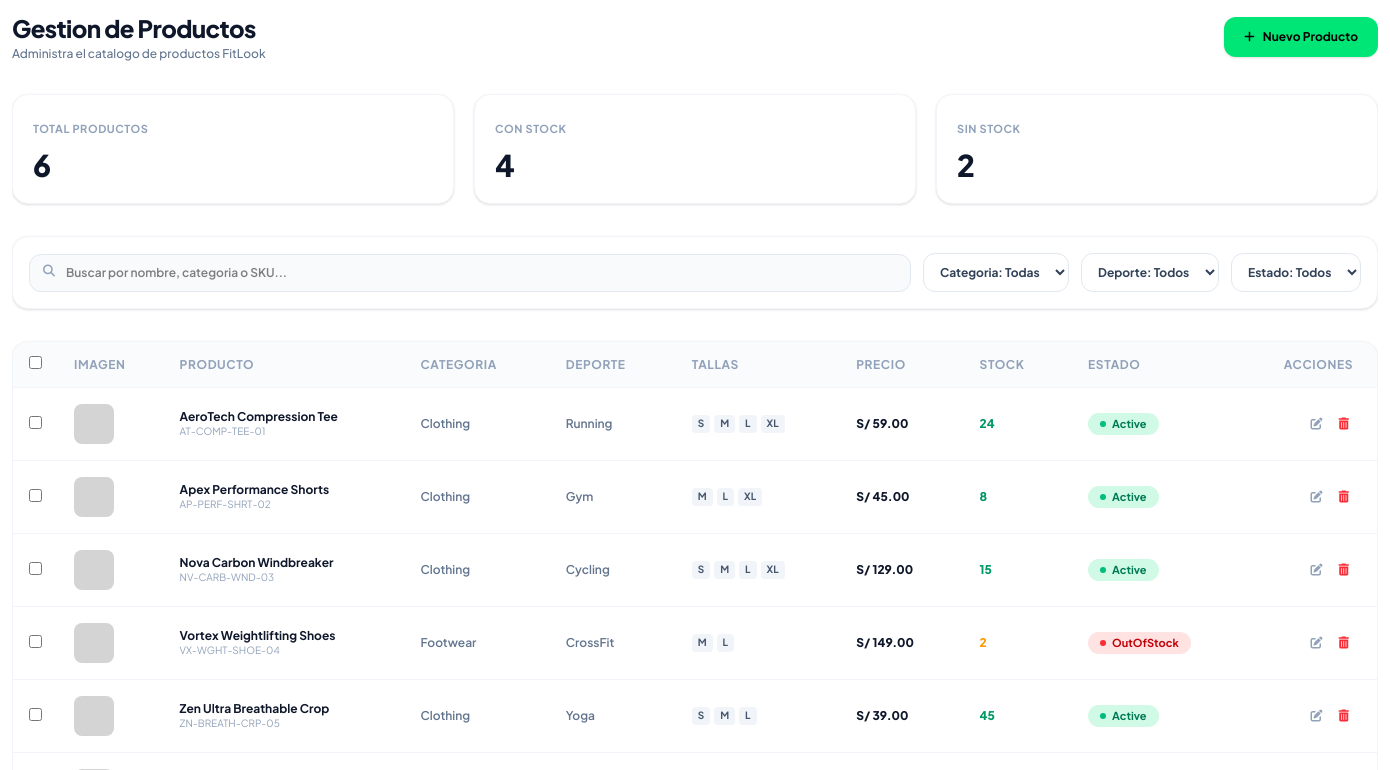
Test: AdminProducts › filtra por nombre
The width and height of the screenshot is (1390, 770).
Type "Nova" into the field with placeholder "Buscar por nombre, categoria o SKU..." at point(470, 272), box [29,254,911,292]
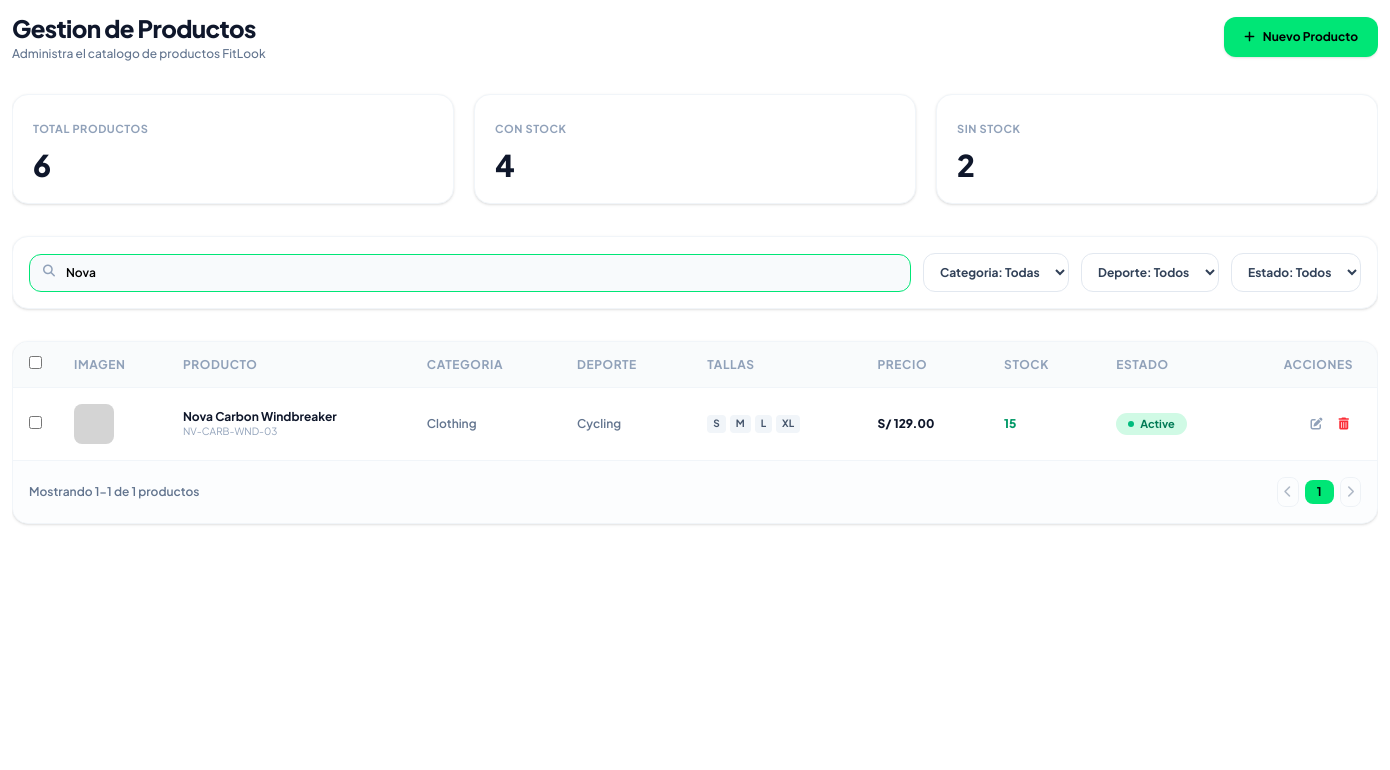
Expected: the text "Nova Carbon Windbreaker" is shown, [183,409,337,424]
Expected: the text "AeroTech Compression Tee" is gone
